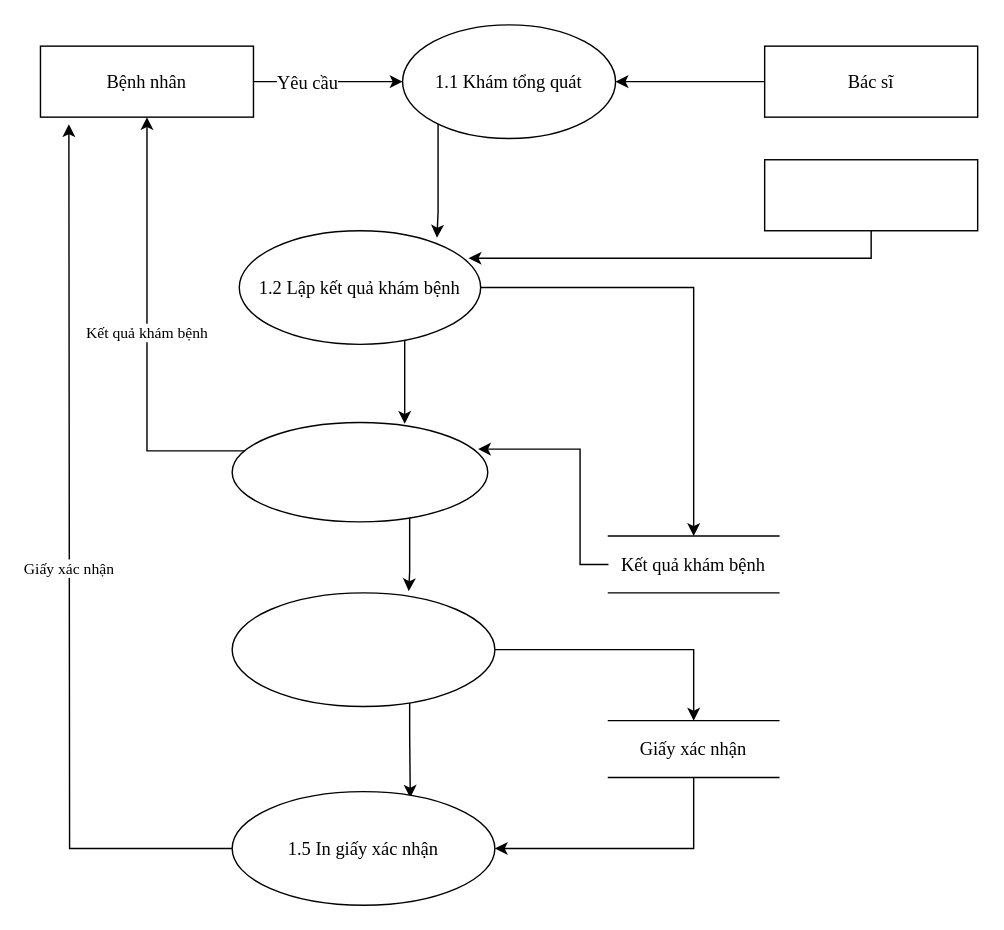
Some shapes in this 1004 by 930 pixel diagram are drawn without their labels. The centre of each missing label's shape, as x and y in pixels:
1.3 In kết quả khám bệnh: point (359, 471)
1.4 Lập giấy xác nhận: point (363, 648)
Ý tá: point (870, 194)
